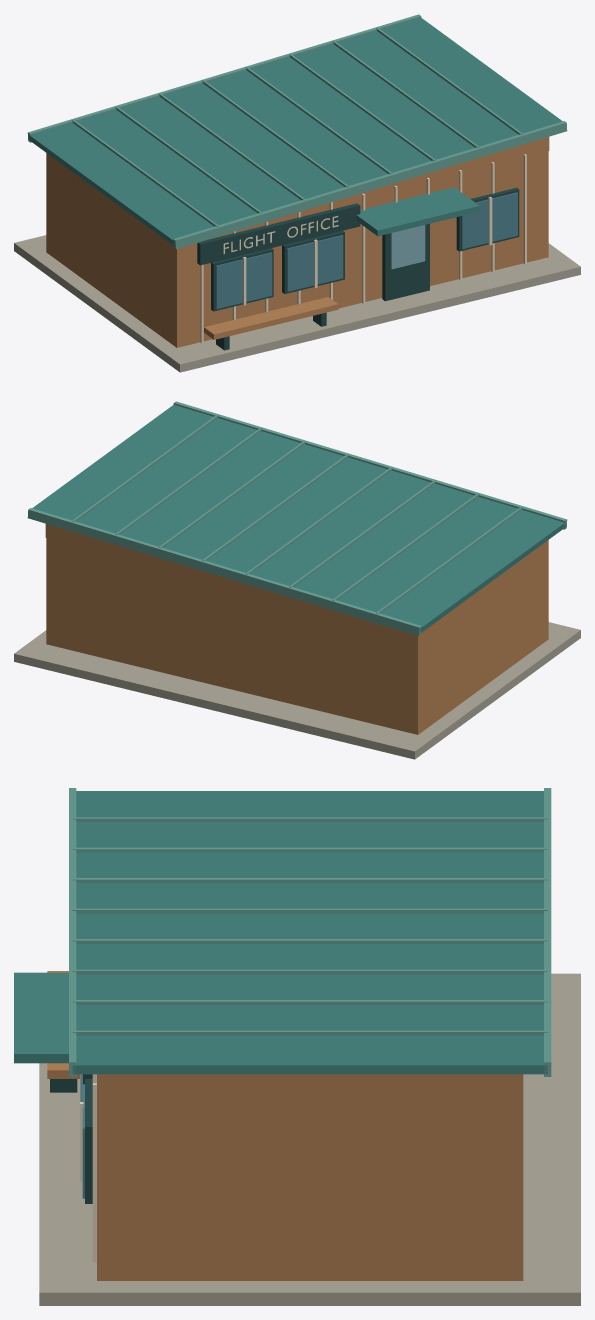
Rendered from flight_office.glb.
3 renders of one model, top to bottom at view 1: azimuth 30°, elevation 25°; view 2: azimuth 150°, elevation 25°; view 3: azimuth 270°, elevation 25°, orthographic. The views are drawn at different scales.
Visible parts, largest first — view 1: flight_office; view 2: flight_office; view 3: flight_office.
Part boxes in pixels (left/top/right/bottom): flight_office: left=14, top=14, right=580, bottom=372; flight_office: left=14, top=401, right=580, bottom=759; flight_office: left=14, top=788, right=580, bottom=1305.
Bounding box in the file's own units: 12.4 × 4.34 × 9.32.
